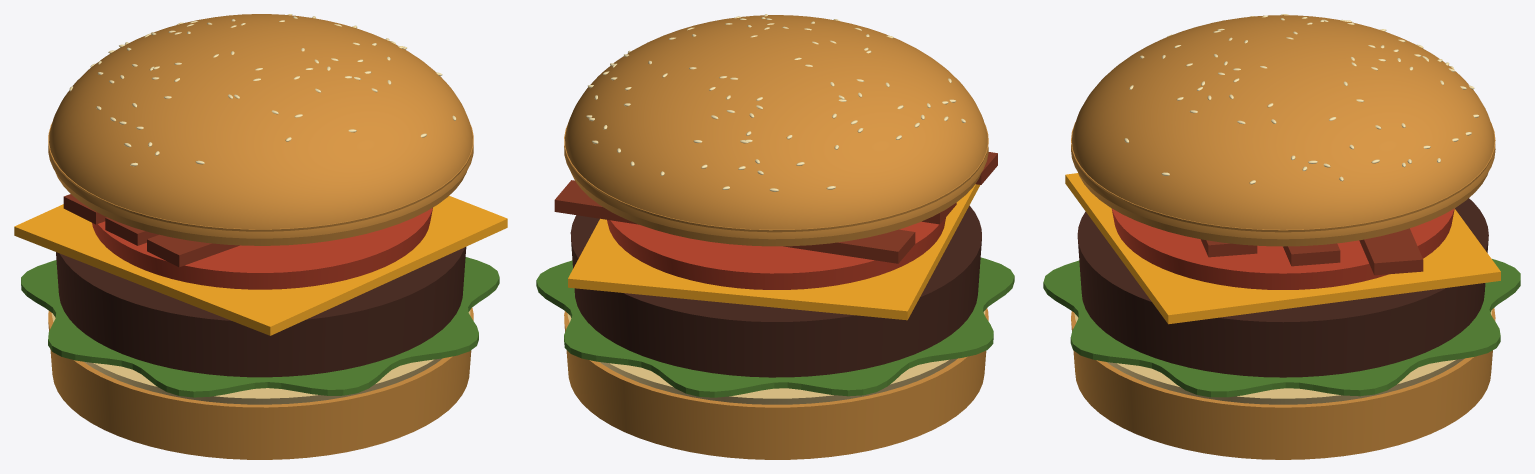
The model's file is brasa-classic.glb.
3 renders of one model, left to right at view 1: azimuth 30°, elevation 25°; view 2: azimuth 150°, elevation 25°; view 3: azimuth 270°, elevation 25°, orthographic.
Bounding box in the file's own units: 0.1426 × 0.1073 × 0.1438.
